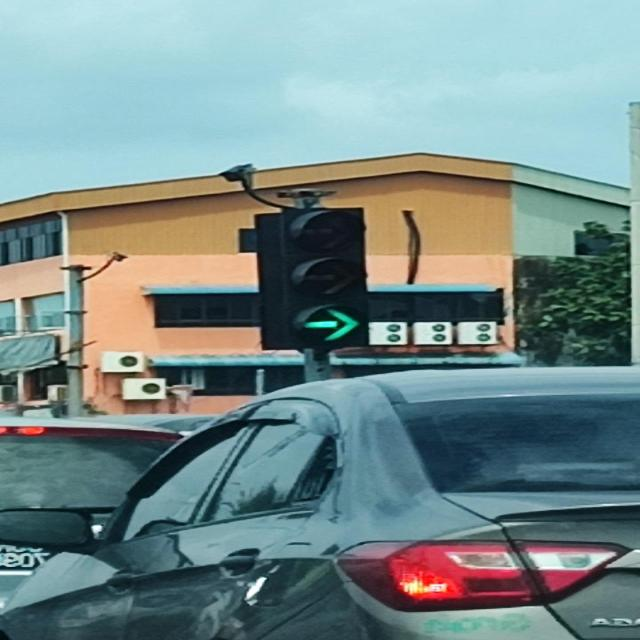car: (0, 364, 640, 640), (0, 418, 187, 640)
traffic light: (255, 205, 370, 352)
